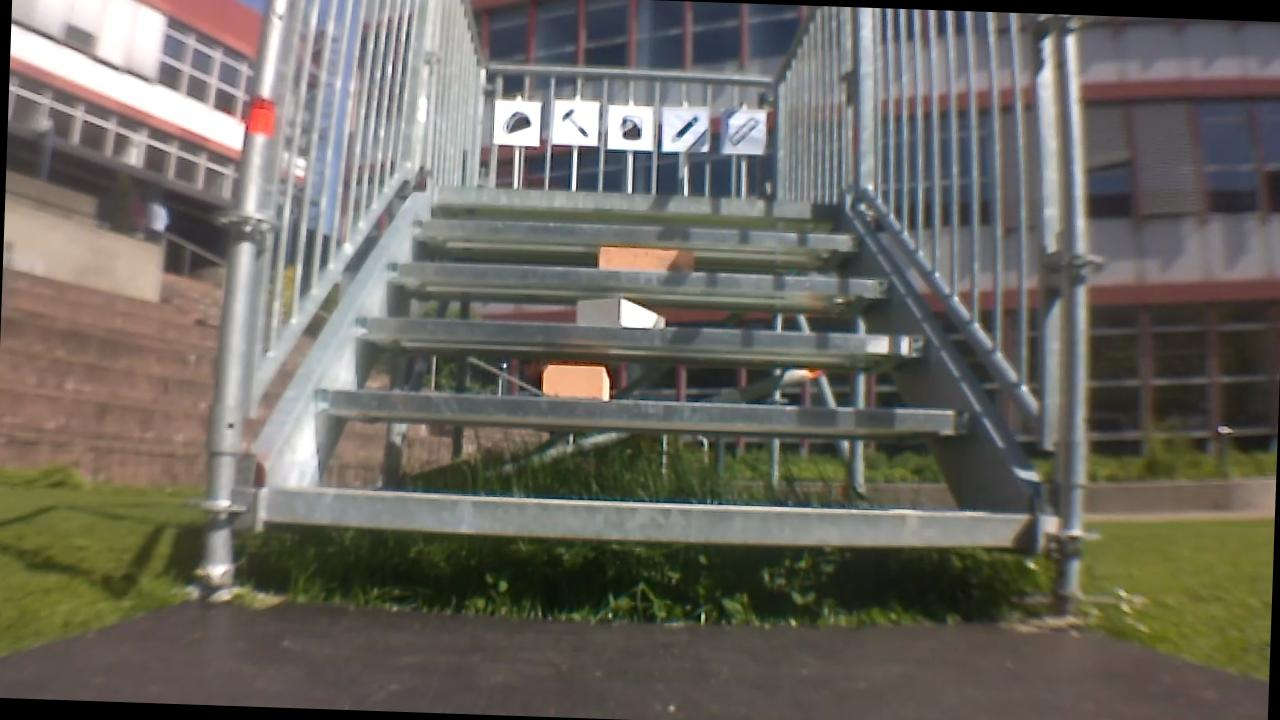brick: (574, 296, 667, 330), (591, 245, 696, 275), (532, 363, 604, 397)
bucket: (616, 112, 647, 145)
edge: (254, 484, 1044, 557), (313, 384, 975, 439), (349, 310, 927, 360), (408, 214, 863, 259), (385, 263, 889, 303), (432, 182, 846, 215)
hammer: (554, 101, 588, 142)
pencil: (669, 110, 703, 143)
ruler: (723, 111, 760, 150)
steps: (237, 176, 1063, 562)
taco: (500, 109, 536, 136)
